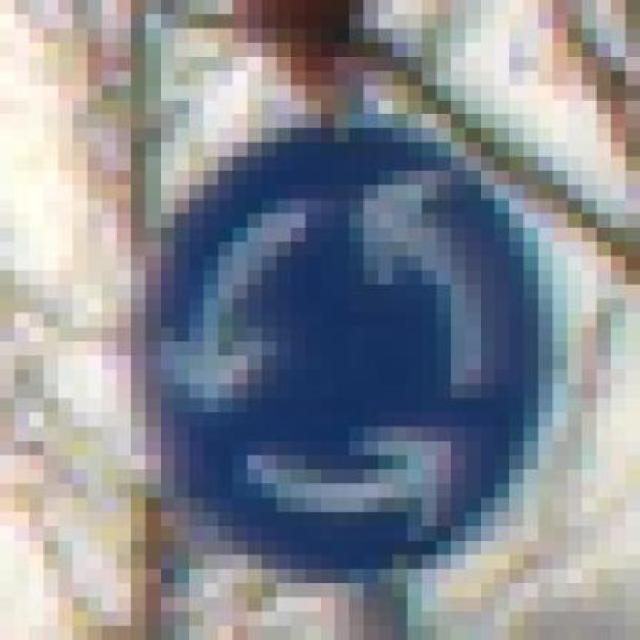Round-About: (101, 113, 582, 612)
